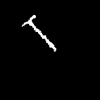double_crochet: (22, 15, 55, 50)
